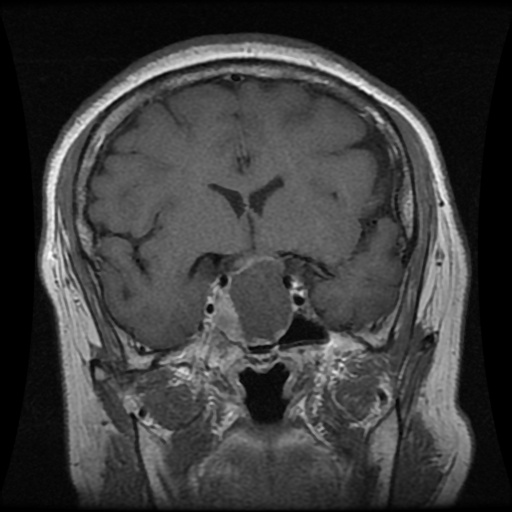pituitary: (229, 258, 293, 338)
